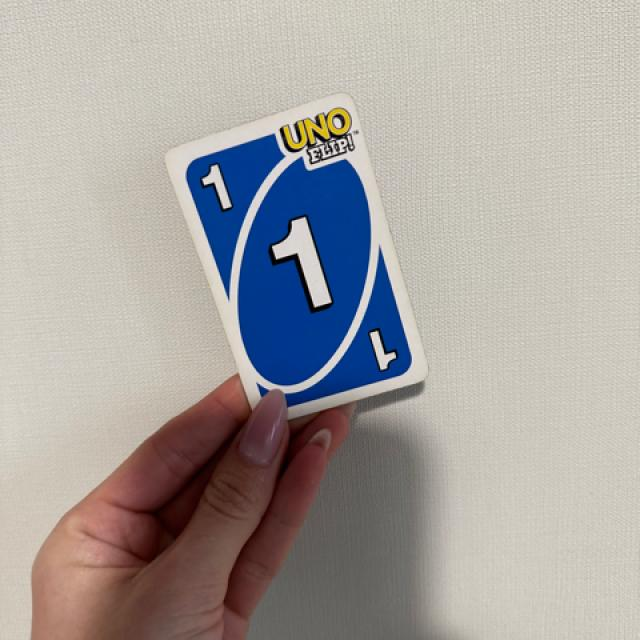lblue-1: (190, 152, 254, 219)
